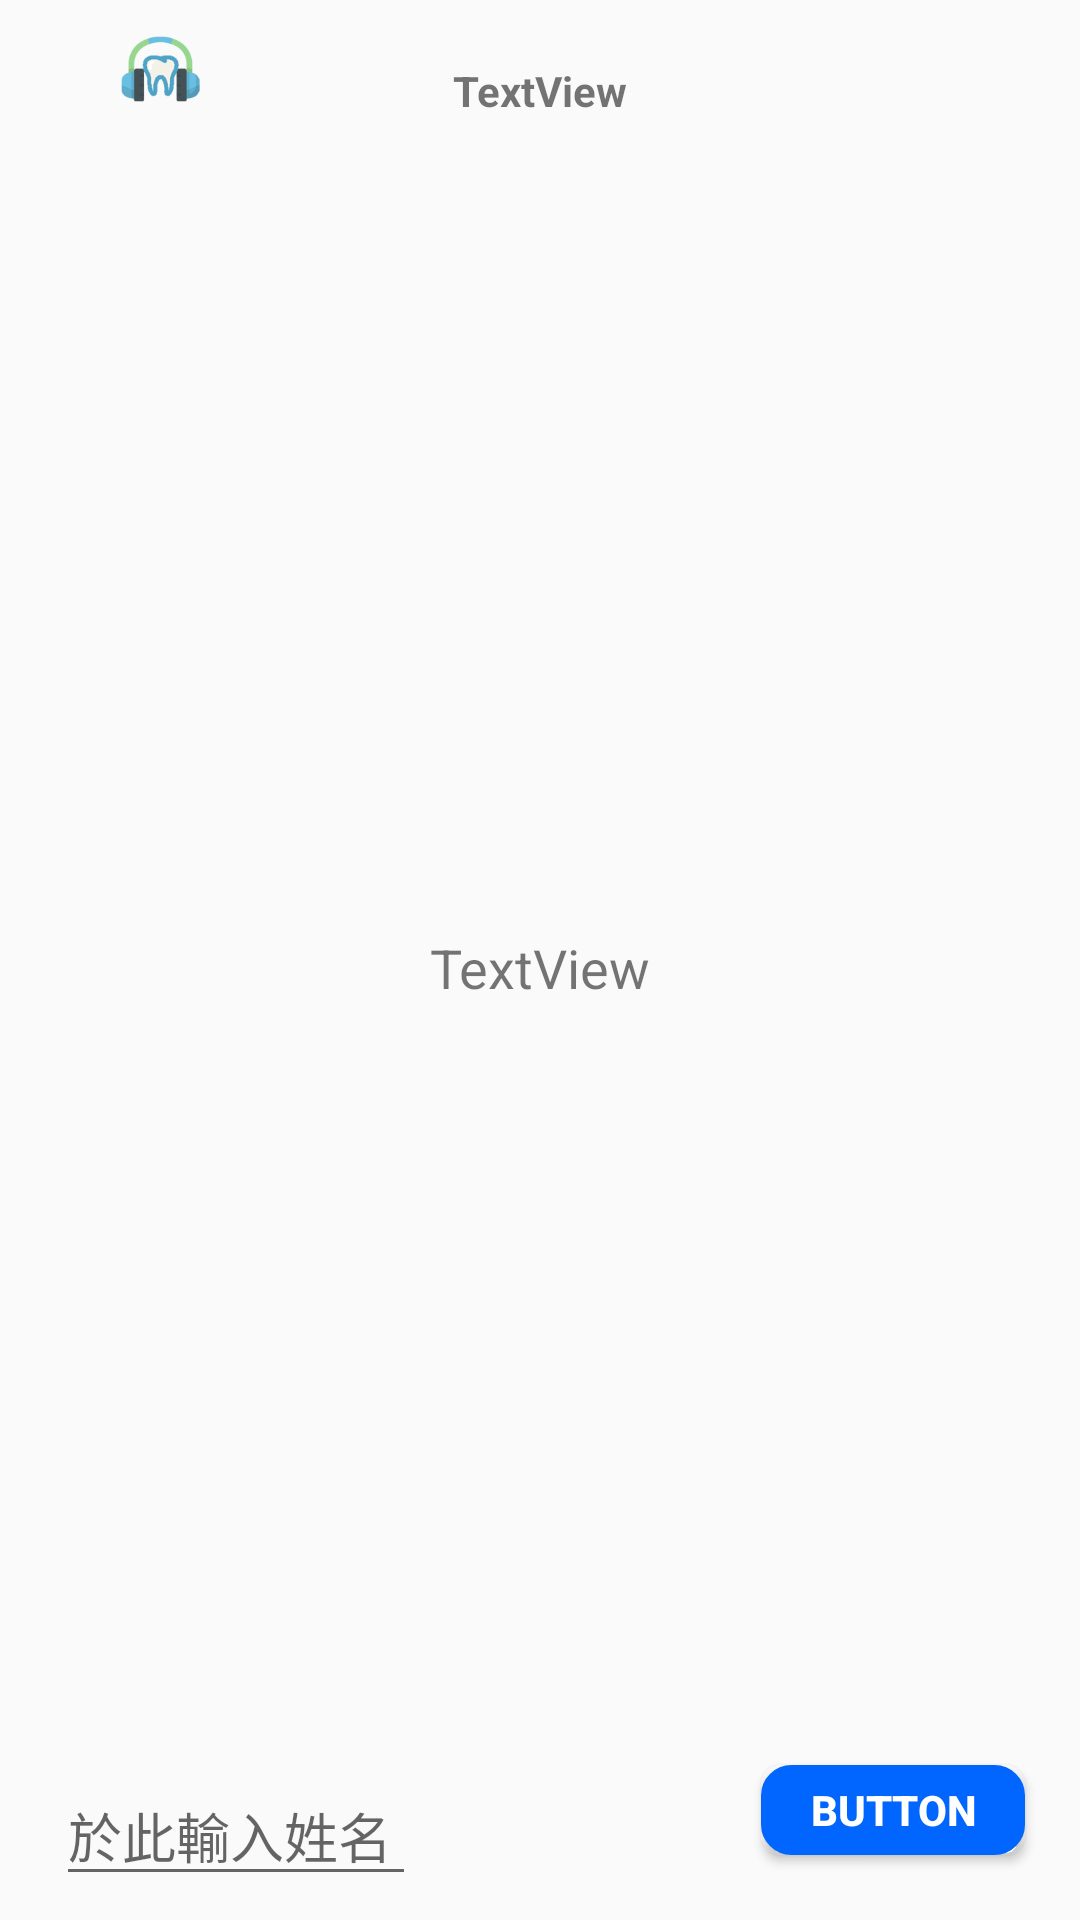

Icon bounding boxes for this 1080x1920 phone screenshot, format bbox=(x1, y1, x2, y2):
tooth: bbox=(121, 36, 200, 102)
